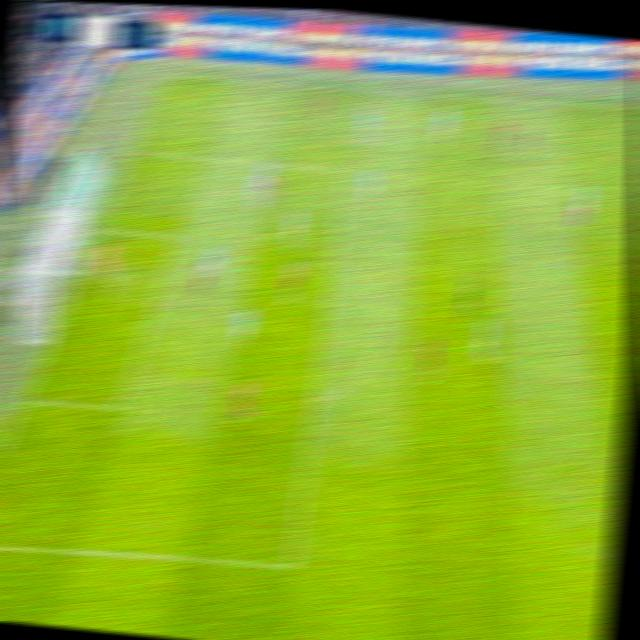bigarea_bottom_inner: (276, 549, 304, 581)
bigarea_top_inner: (337, 162, 357, 182)
bigarea_top_outter: (124, 145, 141, 158)
bottom_arc_area_intersection: (305, 389, 327, 412)
corner: (158, 67, 181, 79)
smallarea_bottom_inner: (109, 397, 131, 418)
smallarea_bottom_outter: (12, 392, 36, 408)
smallarea_top_inner: (167, 227, 186, 247)
smallarea_top_outter: (87, 220, 109, 240)
top_arc_area_intersection: (324, 252, 347, 276)
